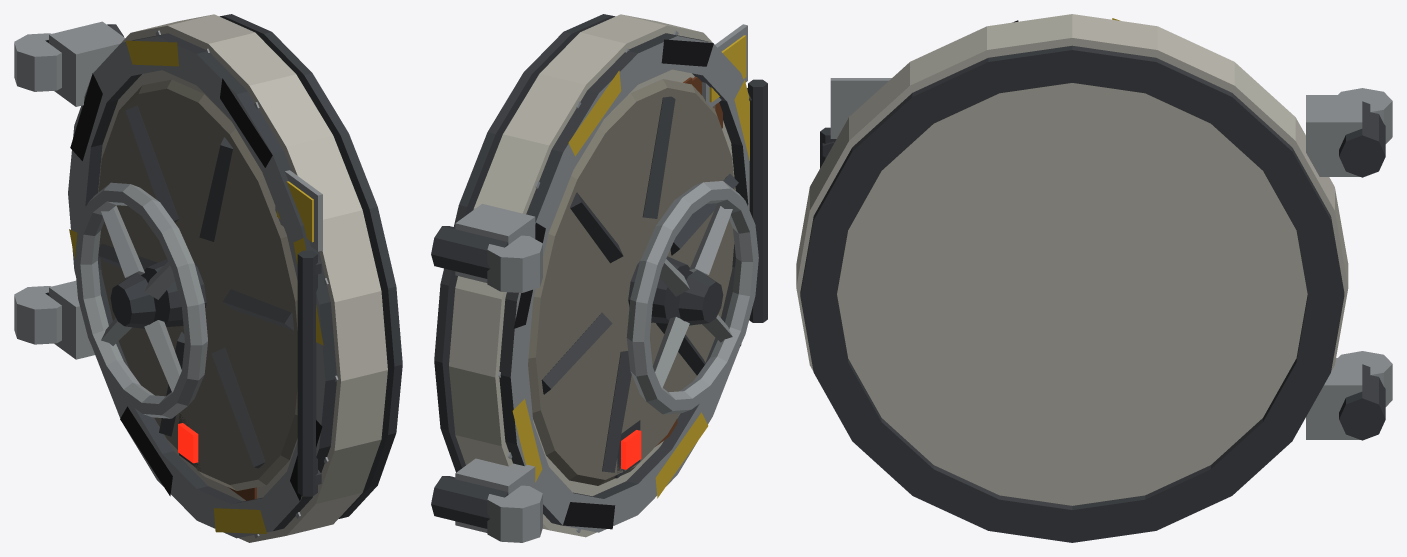
Rendered from airlock_hatch.glb.
3 views of the same model, side by side, from view 1: azimuth 30°, elevation 25°; view 2: azimuth 150°, elevation 25°; view 3: azimuth 270°, elevation 25° (orthographic). The views are drawn at different scales.
Visible parts, largest first — view 1: AirlockHatch; view 2: AirlockHatch; view 3: AirlockHatch.
Part boxes in pixels (x1=…): AirlockHatch: x1=14, y1=14, x2=402, y2=542; AirlockHatch: x1=431, y1=14, x2=767, y2=542; AirlockHatch: x1=796, y1=14, x2=1392, y2=542.
Size of the model in its own units: 0.45 by 1.37 by 1.48.
